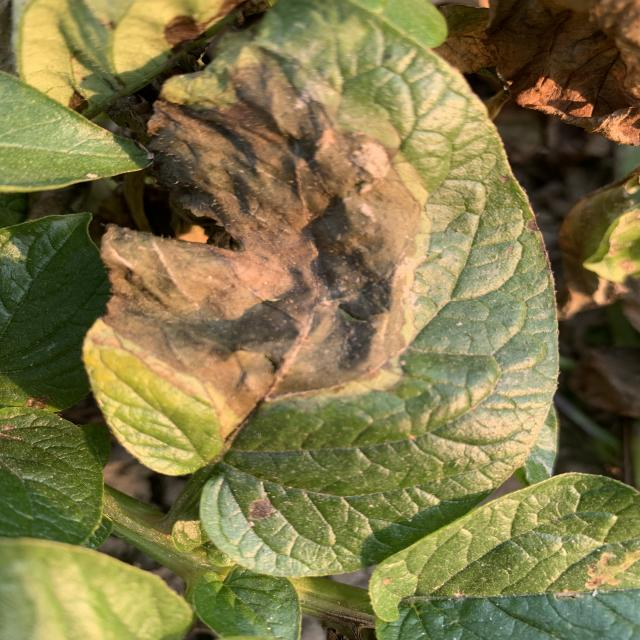lateblight: (102, 75, 420, 395)
